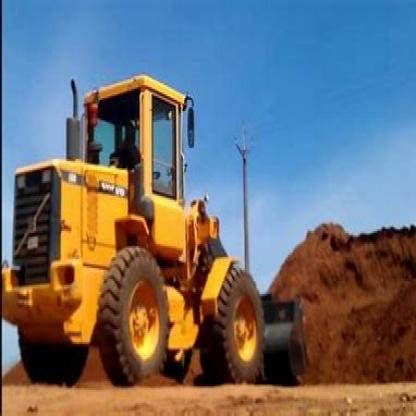bull_dozer/loader/grader: (3, 70, 307, 385)
